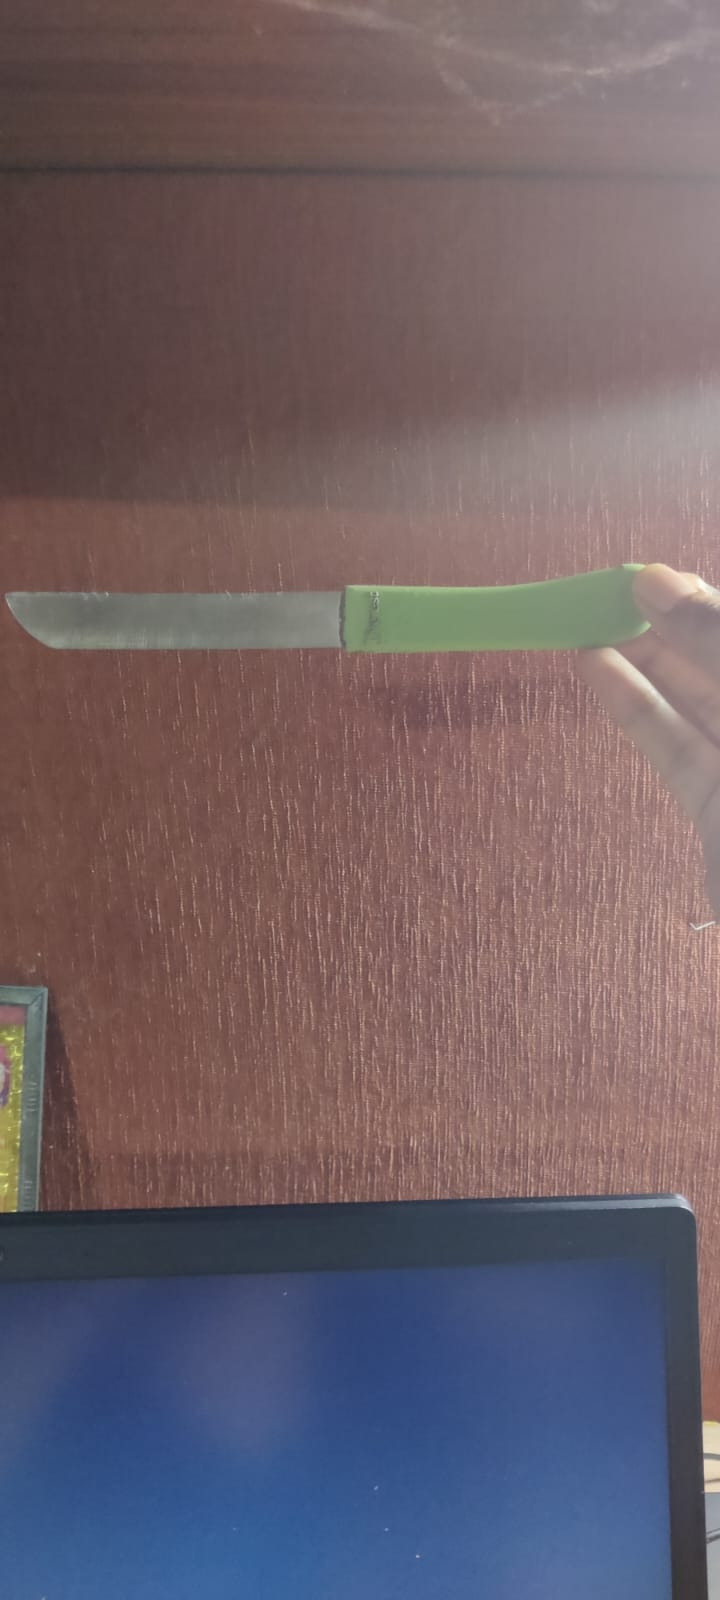knife: (3, 557, 660, 657)
